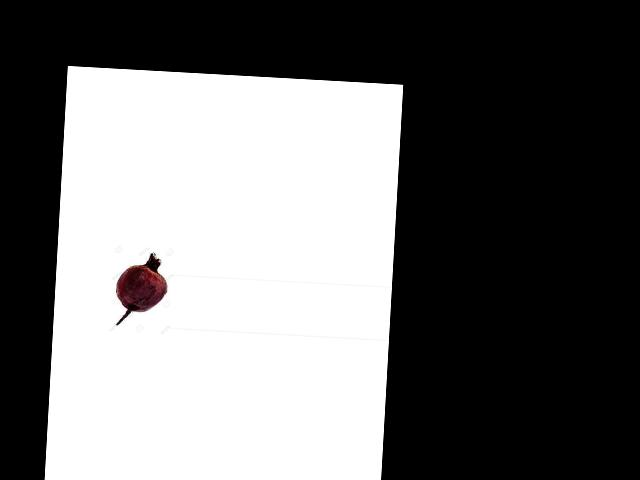beet: (113, 250, 168, 327)
